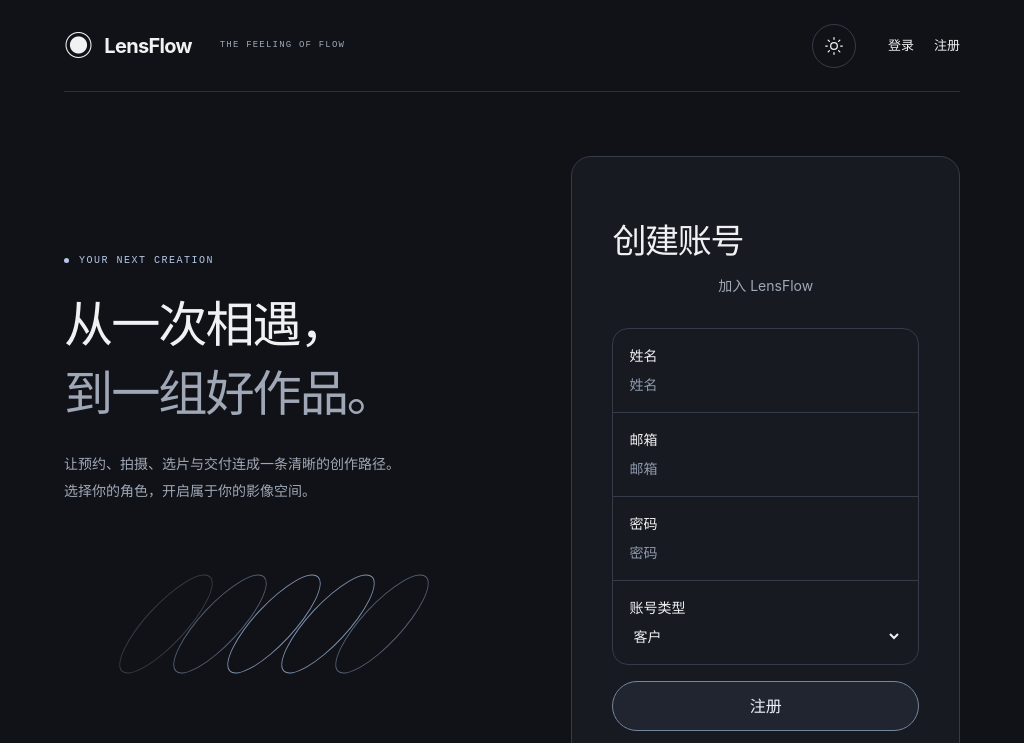
Test case: RegisterPage regression › keeps the register name and guards pending submission
Type "新用户" into the field labelled "姓名".
click(766, 385); type("新用户")  # box [629,374,902,395]
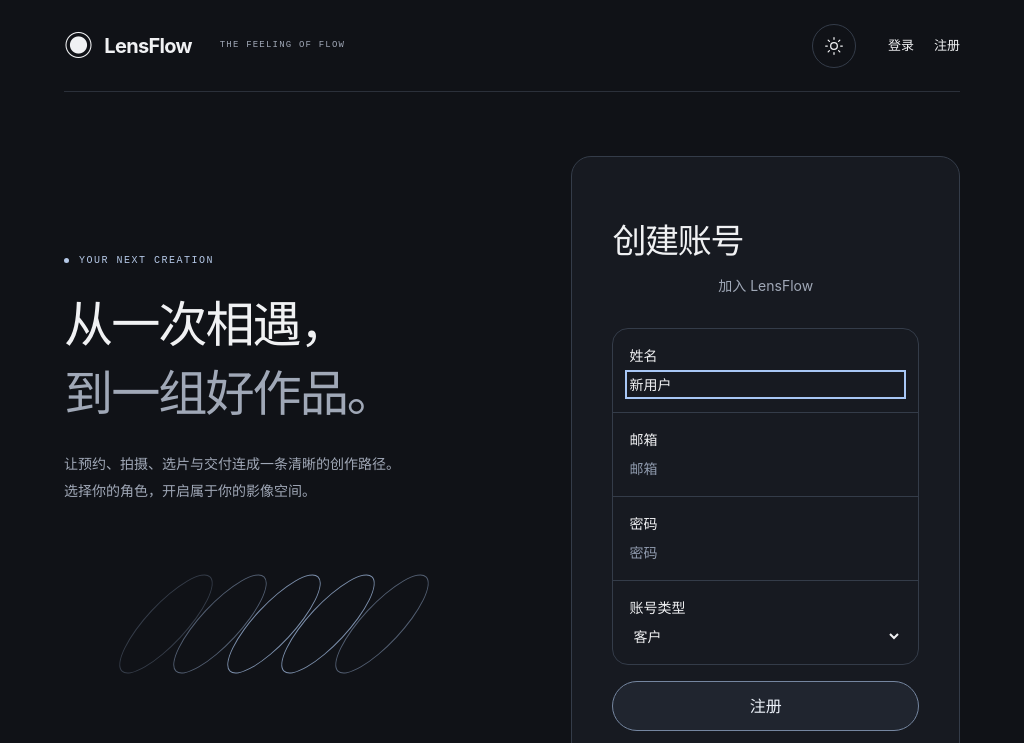
Type "new@example.com" into the field labelled "邮箱".
click(766, 469); type("new@example.com")  # box [629,458,902,479]
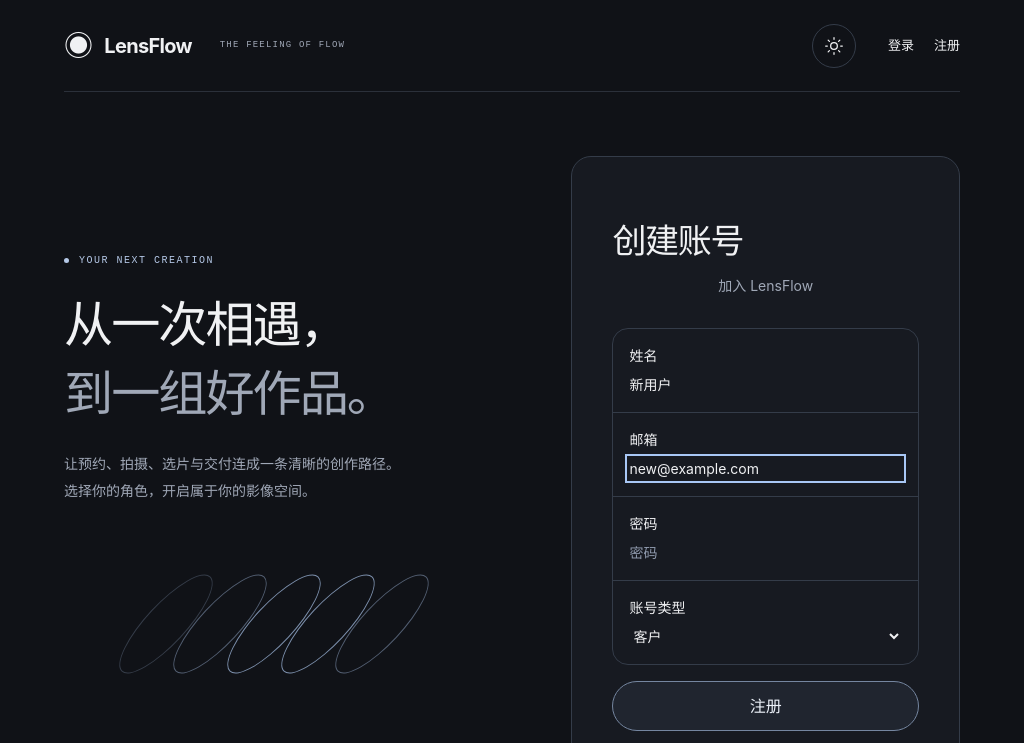
Type "password123" into the password field labelled "密码".
click(766, 553); type("password123")  # box [629,542,902,563]
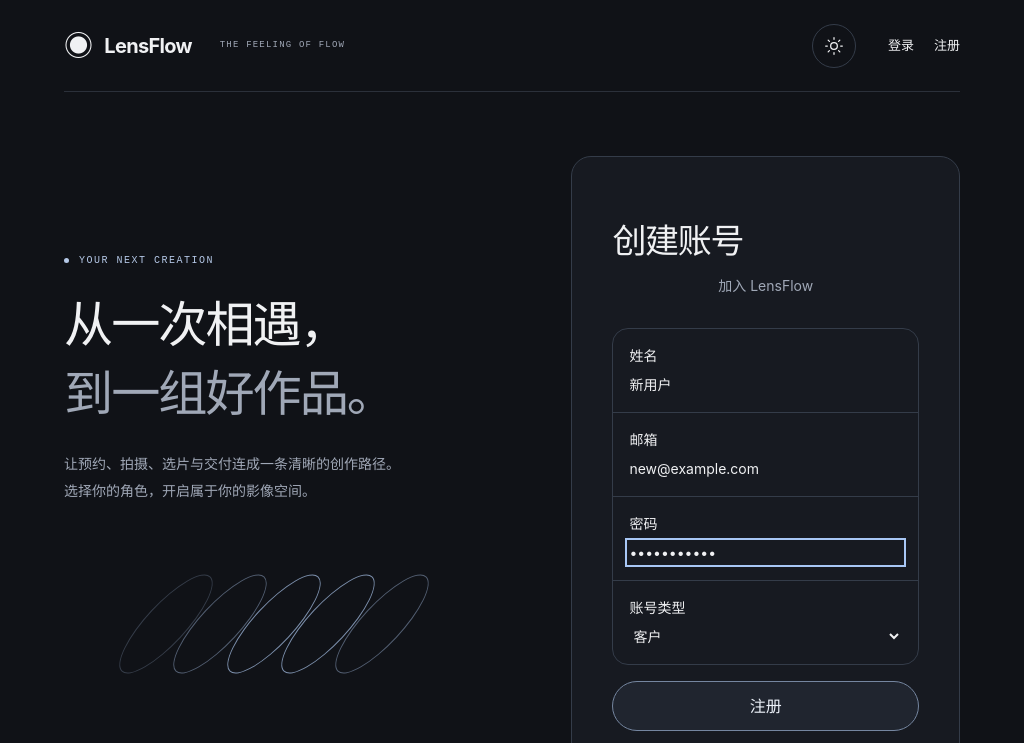
Click the button "注册".
click(766, 706)  # box [612,681,919,731]
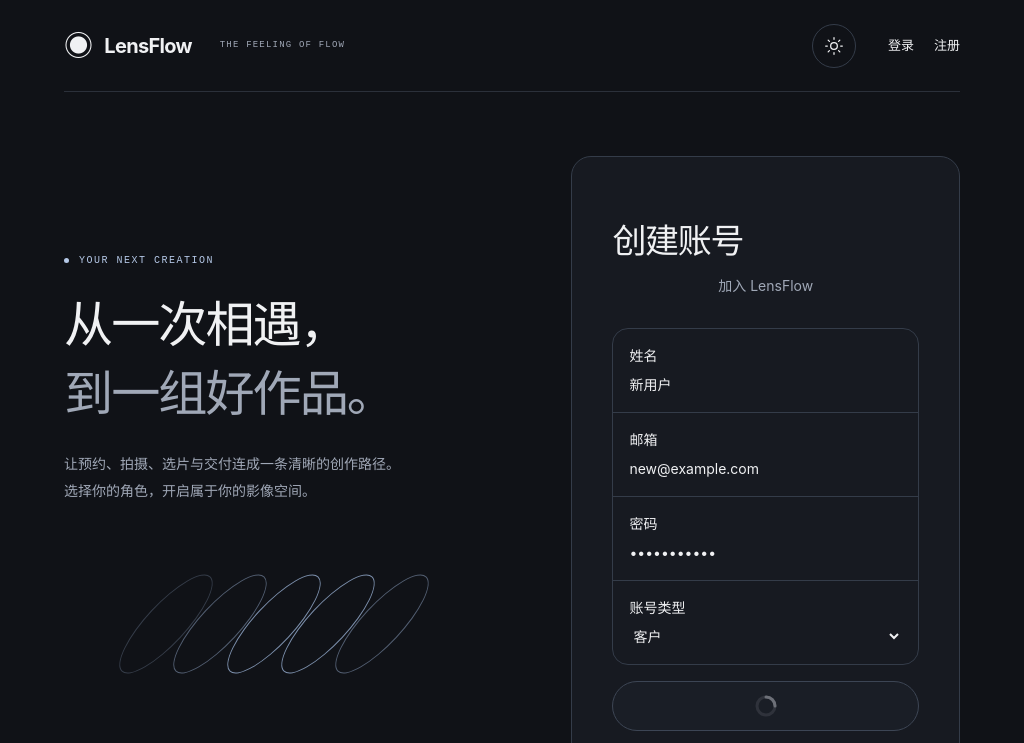
expect the button named "注册" is disabled: met
Click the button named "注册".
click(766, 706)  # box [612,681,919,731]
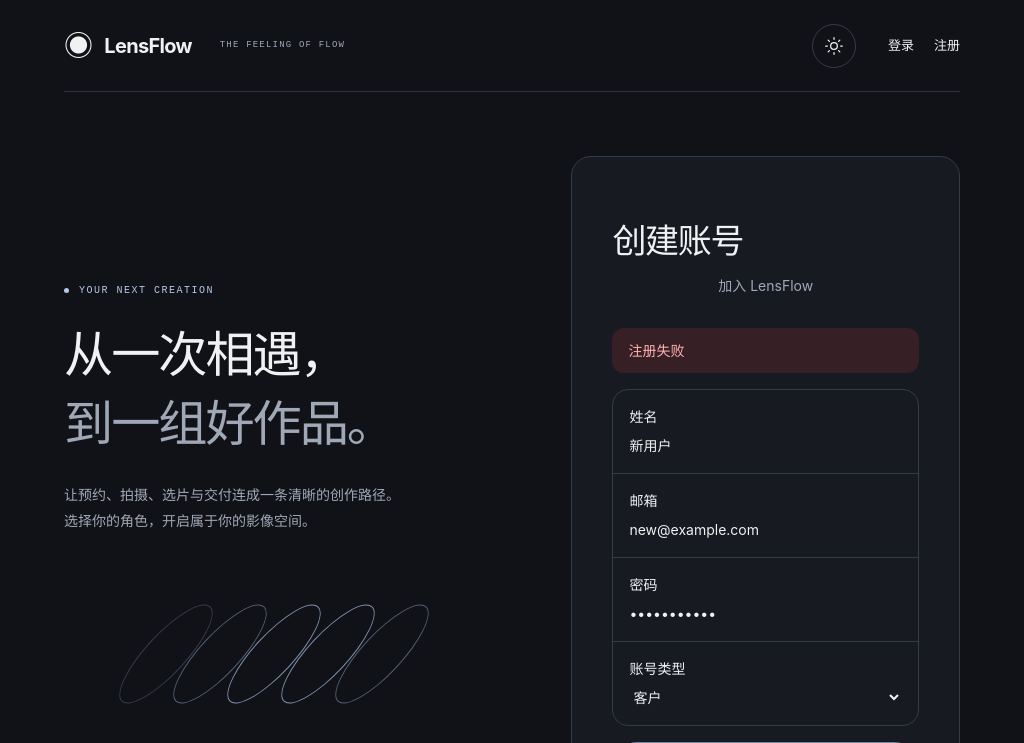
expect the message reads "注册失败": met, box [628,342,684,359]
